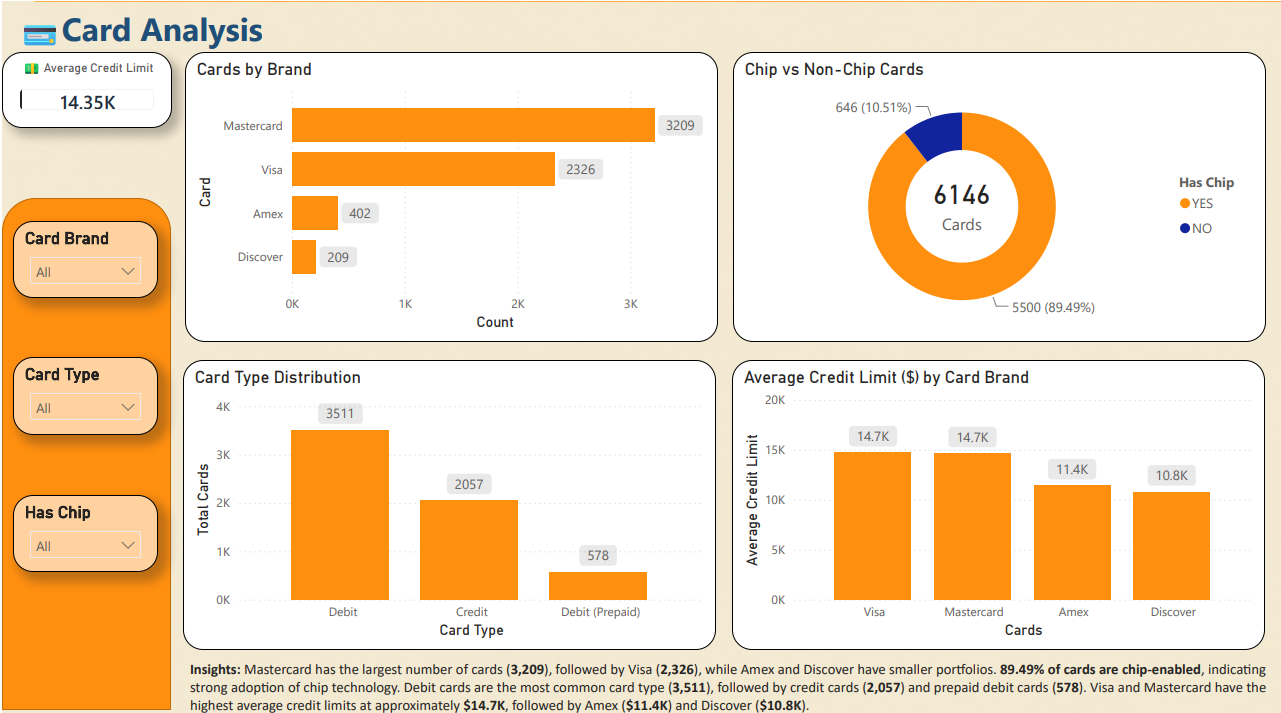

This screenshot's page, from the dashboard's own definition file:
{"tool":"powerbi","page":{"name":"Card Analysis","canvas":[1280,720],"ordinal":3},"visuals":[{"type":"textbox","box":[10.6,0,278.6,59.1],"z":0},{"type":"columnChart","title":"Card Type Distribution","fields":{"Category":["vw_Card_Analysis_updated.CardType"],"Y":["Sum(Card Analysis.TotalCards)"]},"box":[181.3,359.4,533,290],"z":1000},{"type":"cardVisual","title":"💵 Average Credit Limit","fields":{"Data":["Card Analysis.Average Credit Limit"]},"box":[0,51.5,169.6,76],"z":2000},{"type":"donutChart","title":"Chip vs Non-Chip Cards","fields":{"Category":["vw_Card_Analysis_updated.HasChip"],"Y":["Sum(vw_Card_Analysis_updated.TotalCards)"]},"box":[731.4,51.5,533,290],"z":3000},{"type":"clusteredColumnChart","title":"Average Credit Limit ($) by Card Brand","fields":{"Category":["vw_Card_Analysis_updated.CardBrand"],"Y":["Card Analysis.Average Credit Limit by Brand"]},"box":[729.8,359.4,533,290],"z":4000},{"type":"shape","box":[0,197.4,169,511.6],"z":5000},{"type":"slicer","title":"Card Brand","fields":{"Values":["Card Analysis.CardBrand"]},"box":[10.6,220,145,77.2],"z":6000},{"type":"slicer","title":"Card Type","fields":{"Values":["Card Analysis.CardType"]},"box":[10.6,356.3,145,77.2],"z":7000},{"type":"slicer","title":"Has Chip","fields":{"Values":["Card Analysis.HasChip"]},"box":[10.6,494.1,145,77.2],"z":8000},{"type":"barChart","title":"Cards by Brand","fields":{"Category":["vw_Card_Analysis_updated.CardBrand"],"Y":["Sum(Card Analysis.TotalCards)"]},"box":[183.2,51.5,533,290],"z":9000},{"type":"textbox","box":[183.2,654.1,1096.3,66.6],"z":10000}]}

Visuals, with their boxes in screenshot pixels (x1, y1, x2, y2), scaled from the page's 1280x720 canvas onto the 1281x713 screenshot:
textbox: pyautogui.locateOnScreen(11, 0, 289, 59)
"Card Type Distribution" columnChart: pyautogui.locateOnScreen(181, 356, 715, 643)
"💵 Average Credit Limit" cardVisual: pyautogui.locateOnScreen(0, 51, 170, 126)
"Chip vs Non-Chip Cards" donutChart: pyautogui.locateOnScreen(732, 51, 1265, 338)
"Average Credit Limit ($) by Card Brand" clusteredColumnChart: pyautogui.locateOnScreen(730, 356, 1264, 643)
shape: pyautogui.locateOnScreen(0, 195, 169, 702)
"Card Brand" slicer: pyautogui.locateOnScreen(11, 218, 156, 294)
"Card Type" slicer: pyautogui.locateOnScreen(11, 353, 156, 429)
"Has Chip" slicer: pyautogui.locateOnScreen(11, 489, 156, 566)
"Cards by Brand" barChart: pyautogui.locateOnScreen(183, 51, 717, 338)
textbox: pyautogui.locateOnScreen(183, 648, 1280, 712)
